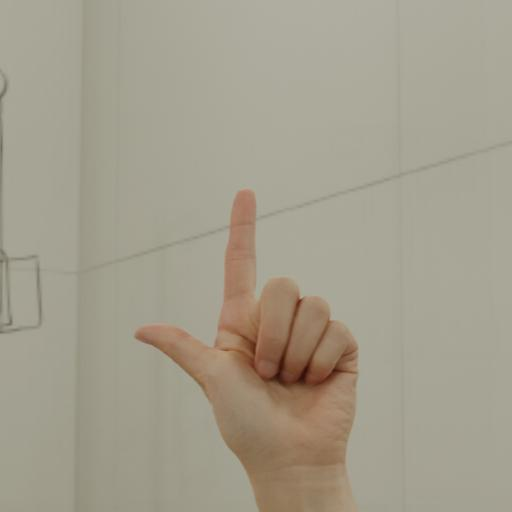L: (131, 186, 361, 480)
